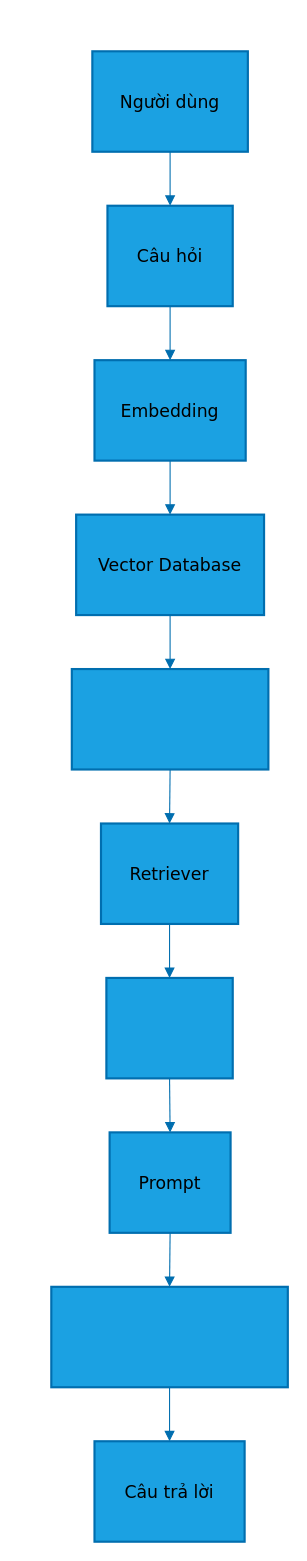
Image size: 307x1561. Some labels were removed from this diagram. The shapes that lost their labels are listed below. From the top down, each one's centre as x and y in pixels, then its label:
the point at 169,718: Similarity Search
the point at 169,1027: Context
the point at 169,1336: Large Language Model
